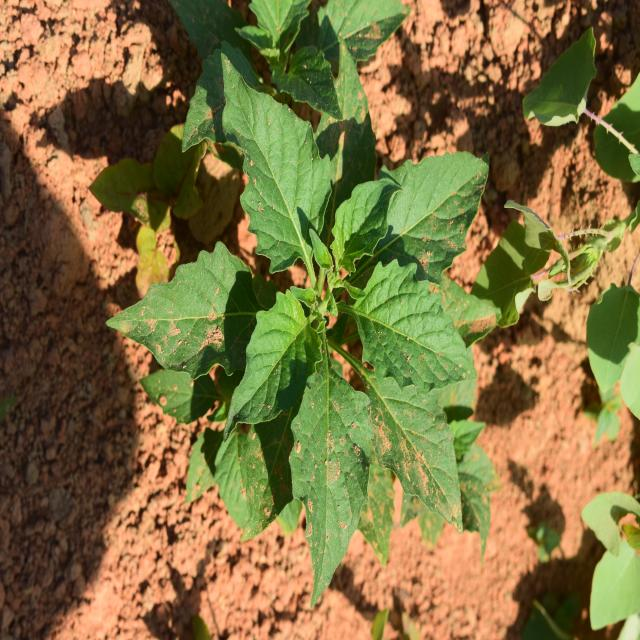Black_nightshade: (196, 93, 509, 564)
